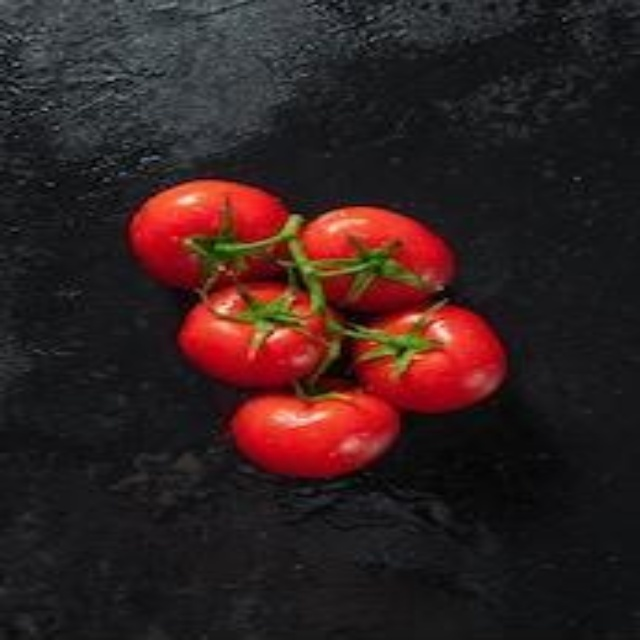tomato: (179, 274, 338, 406), (367, 302, 505, 410), (239, 385, 399, 477), (305, 218, 459, 309), (144, 181, 285, 280)
